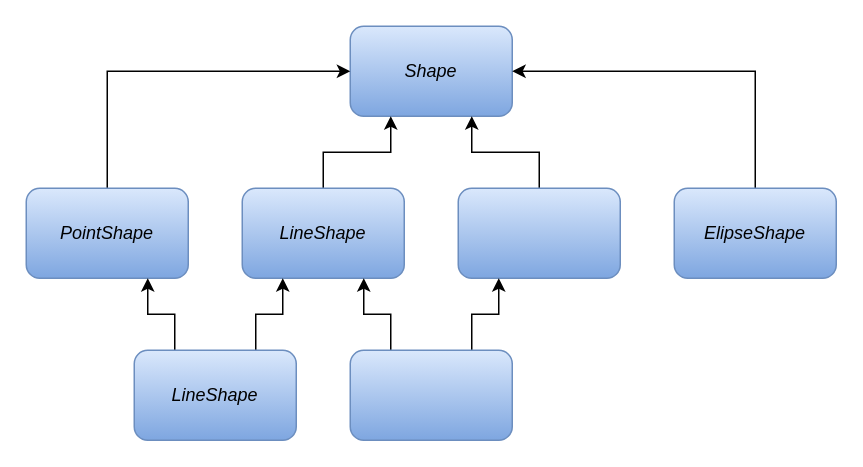
Image size: 863x467. Some labels were removed from this diagram. Here are the shapes that lost their labels. From the top down, the centre of each, then its label:
At (538,232): "RectShape".
At (430,394): "CubeShape".
